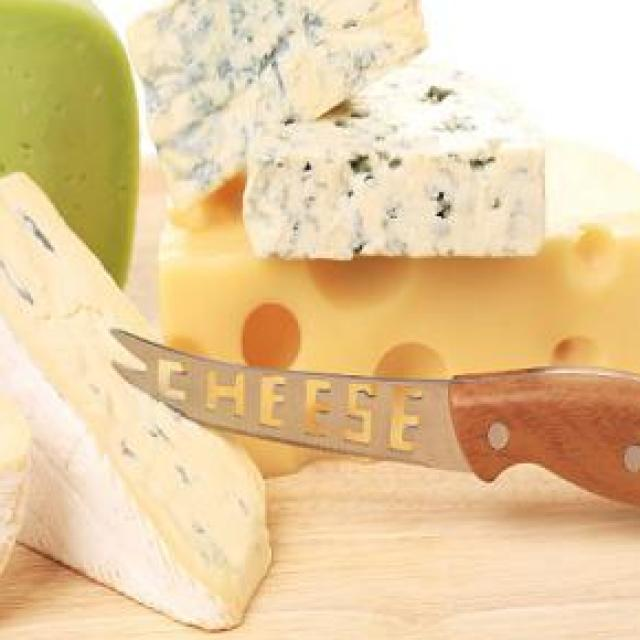knife: (103, 329, 640, 512)
